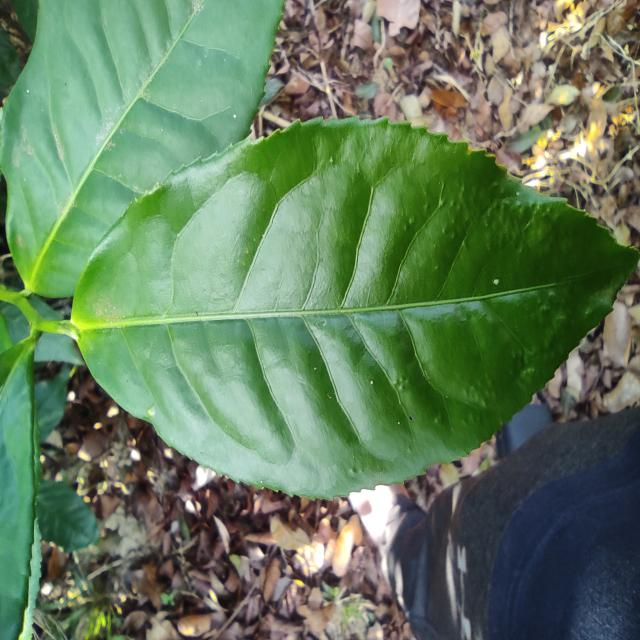Category D(7+ days, Not for Tea): (52, 107, 640, 521)
